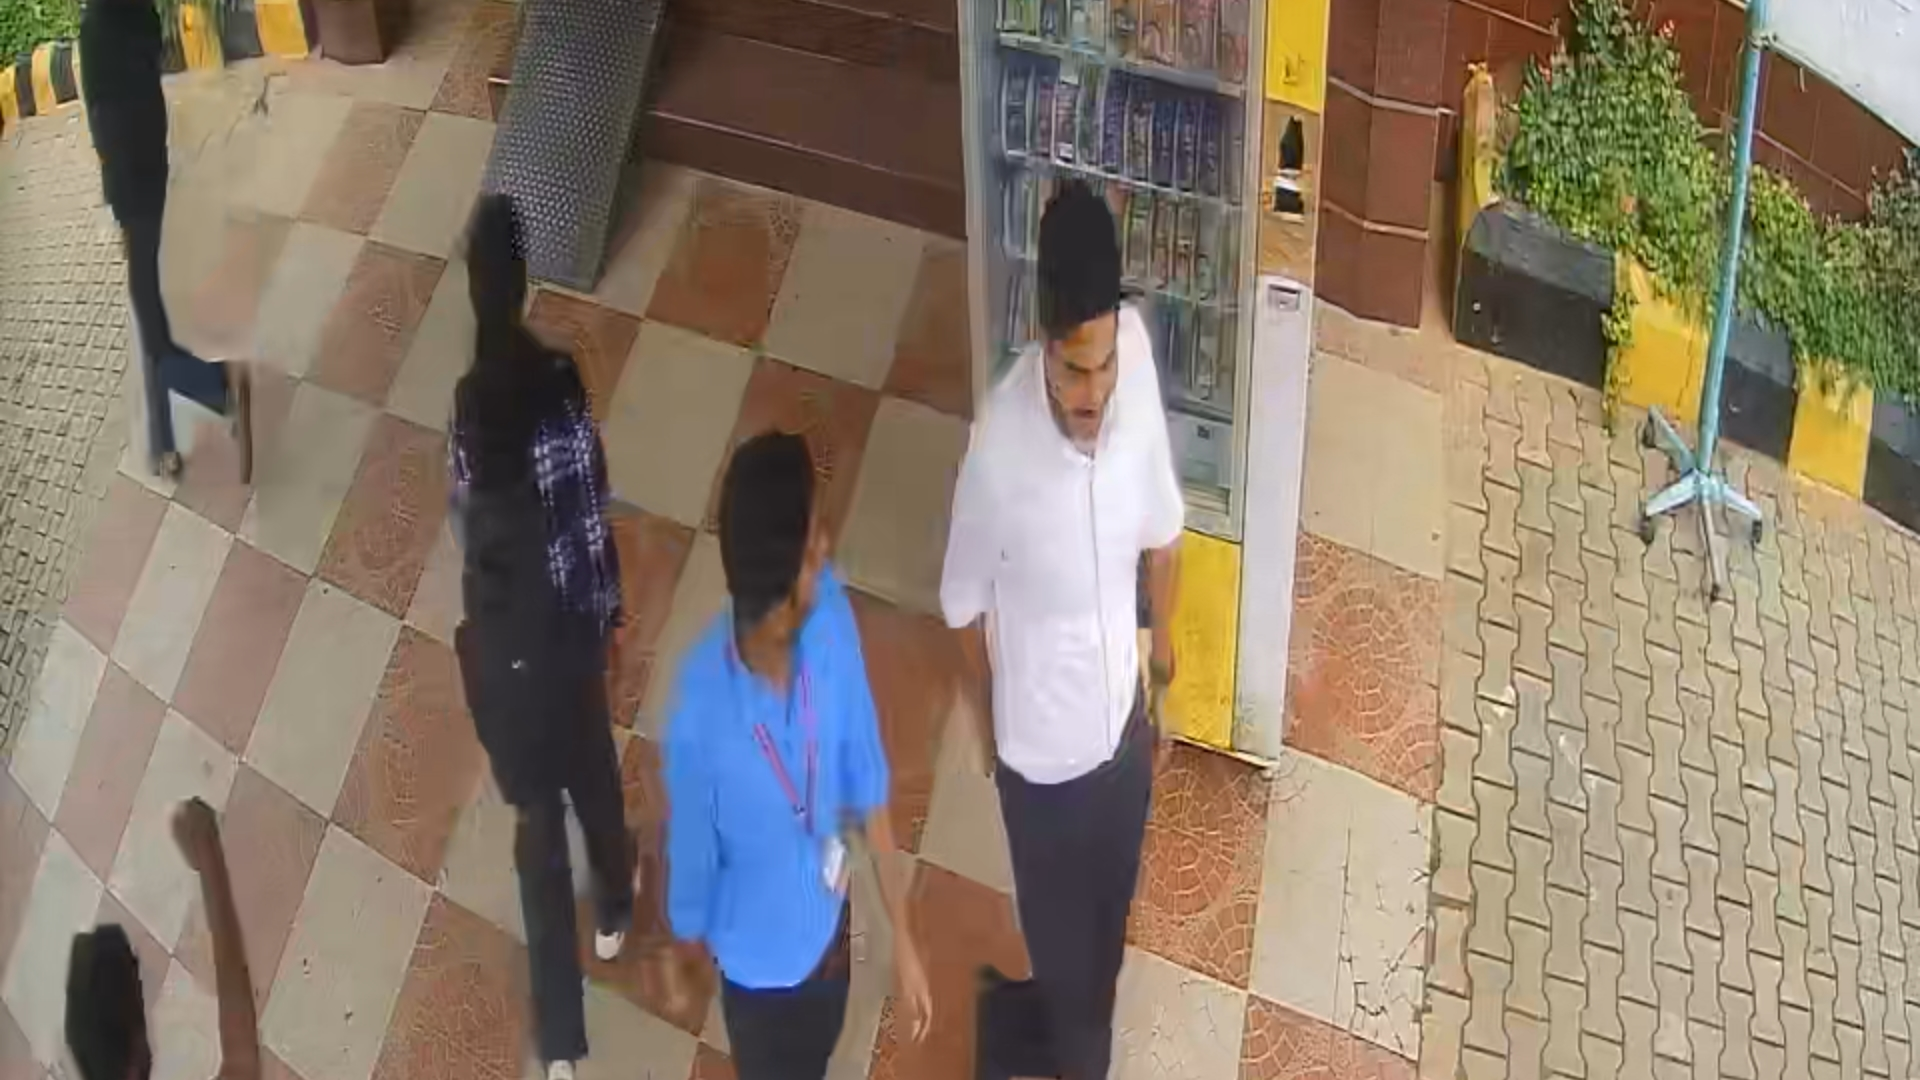intruder: (930, 175, 1166, 1080)
not intruder: (650, 430, 897, 1080)
